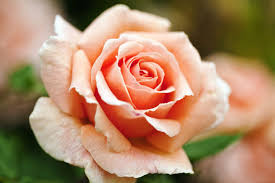lale: (23, 0, 232, 182)
